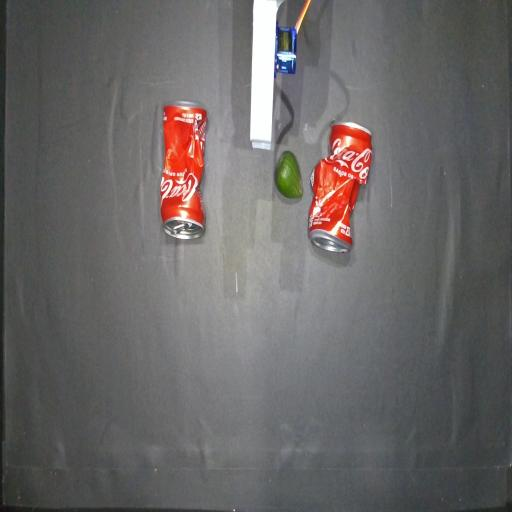higo: (275, 151, 303, 199)
lata_defectuoso: (308, 123, 372, 251), (160, 101, 207, 239)
